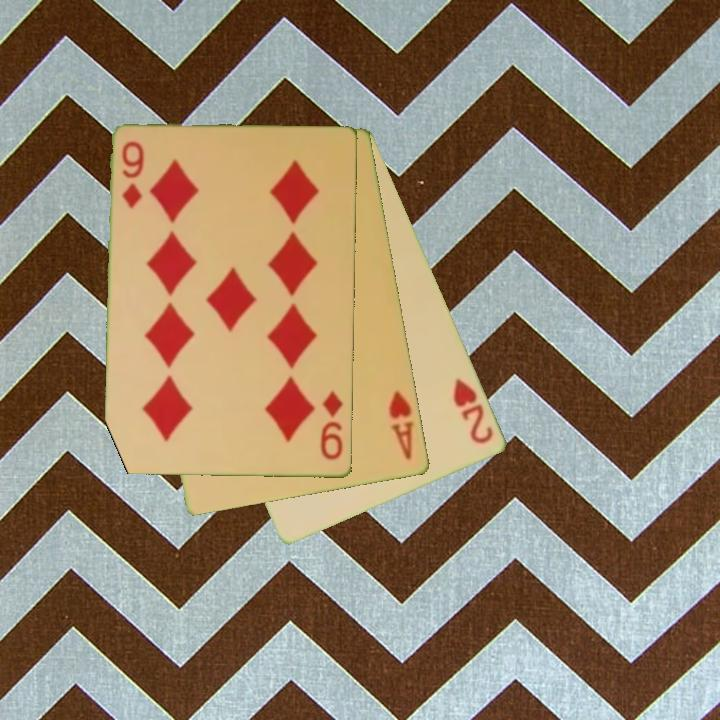2h: (450, 375, 497, 447)
9d: (318, 387, 346, 463), (119, 138, 147, 212)
Ah: (385, 387, 417, 464)
